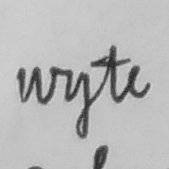e: (124, 62, 152, 100)
t: (97, 43, 123, 105)
w: (13, 64, 58, 106)
y: (62, 67, 92, 141)
